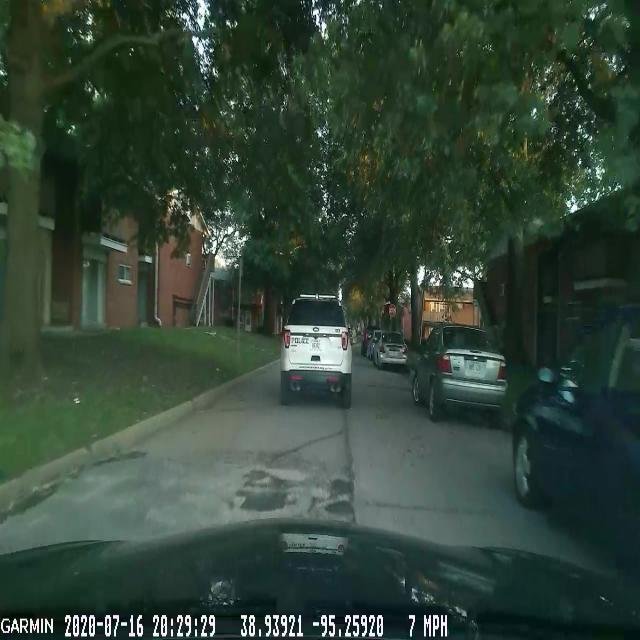Pothole: (230, 453, 302, 523), (318, 458, 362, 520)
